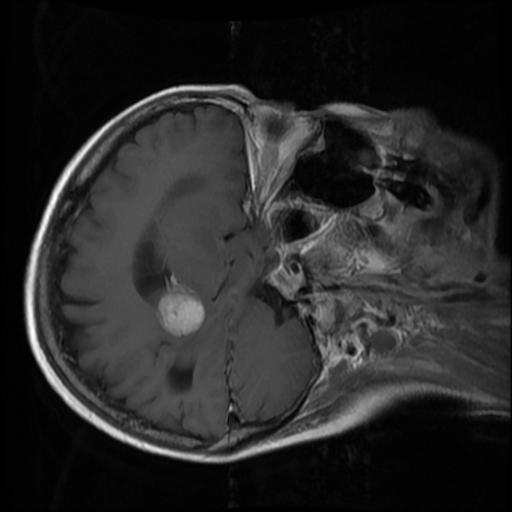meningioma: (156, 285, 205, 337)
